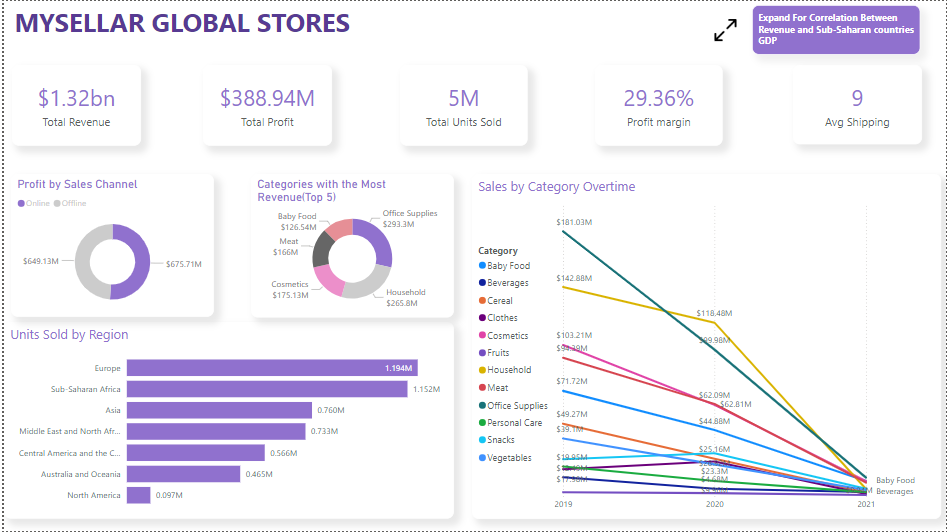

The page's visual inventory and layout, read from the dashboard file:
{"tool":"powerbi","page":{"name":"Page 1","canvas":[1366,768],"ordinal":0},"visuals":[{"type":"image","box":[1024.4,10,42.2,64.4],"z":0},{"type":"textbox","box":[10.3,0,531.7,76.8],"z":1000},{"type":"textbox","box":[1084.7,6.3,244,72],"z":3000},{"type":"card","fields":{"Values":["Measures_.Total_Profit"]},"box":[288.3,93.3,186.7,116.7],"z":5000},{"type":"card","fields":{"Values":["Sum(Orders.Units Sold)"]},"box":[573.3,93.3,185,116.7],"z":6000},{"type":"lineChart","title":"Sales by Category Overtime","fields":{"Category":["Date Table.Year"],"Y":["Measures_.Total Revenue"],"Series":["Orders.Category"]},"box":[678.3,250,680,500],"z":7000},{"type":"barChart","title":"Units Sold by Region","fields":{"Y":["Sum(Orders.Units Sold)"],"Category":["Orders.Region"]},"box":[0,465,651.7,285],"z":8000},{"type":"donutChart","title":"Profit by Sales Channel","fields":{"Y":["Measures_.Total Revenue"],"Category":["Orders.Sales Channel"]},"box":[10.8,250.8,294.2,207.5],"z":9000},{"type":"card","fields":{"Values":["Measures_.Total_Revenue"]},"box":[11.7,93.3,186.7,116.7],"z":10000},{"type":"card","fields":{"Values":["Measures_.%Profit margin"]},"box":[856.7,93.3,185,116.7],"z":11000},{"type":"card","fields":{"Values":["Measures_.Avg Shipping (days)"]},"box":[1143.3,93.3,186.7,115],"z":12000},{"type":"donutChart","title":"Categories with the Most Revenue(Top 5)","fields":{"Y":["Measures_.Total Revenue"],"Category":["Orders.Category"]},"box":[357.5,251.2,293.8,207.5],"z":13000}]}

Visuals, with their boxes in screenshot pixels (x1, y1, x2, y2), scaled from the page's 1366x768 canvas onto the 947x532 screenshot:
image: bbox=[710, 7, 739, 52]
textbox: bbox=[7, 0, 376, 53]
textbox: bbox=[752, 4, 921, 54]
card - Measures_.Total_Profit: bbox=[200, 65, 329, 145]
card - Sum(Orders.Units Sold): bbox=[397, 65, 526, 145]
"Sales by Category Overtime" lineChart: bbox=[470, 173, 942, 520]
"Units Sold by Region" barChart: bbox=[0, 322, 452, 520]
"Profit by Sales Channel" donutChart: bbox=[7, 174, 211, 317]
card - Measures_.Total_Revenue: bbox=[8, 65, 138, 145]
card - Measures_.%Profit margin: bbox=[594, 65, 722, 145]
card - Measures_.Avg Shipping (days): bbox=[793, 65, 922, 144]
"Categories with the Most Revenue(Top 5)" donutChart: bbox=[248, 174, 452, 318]
